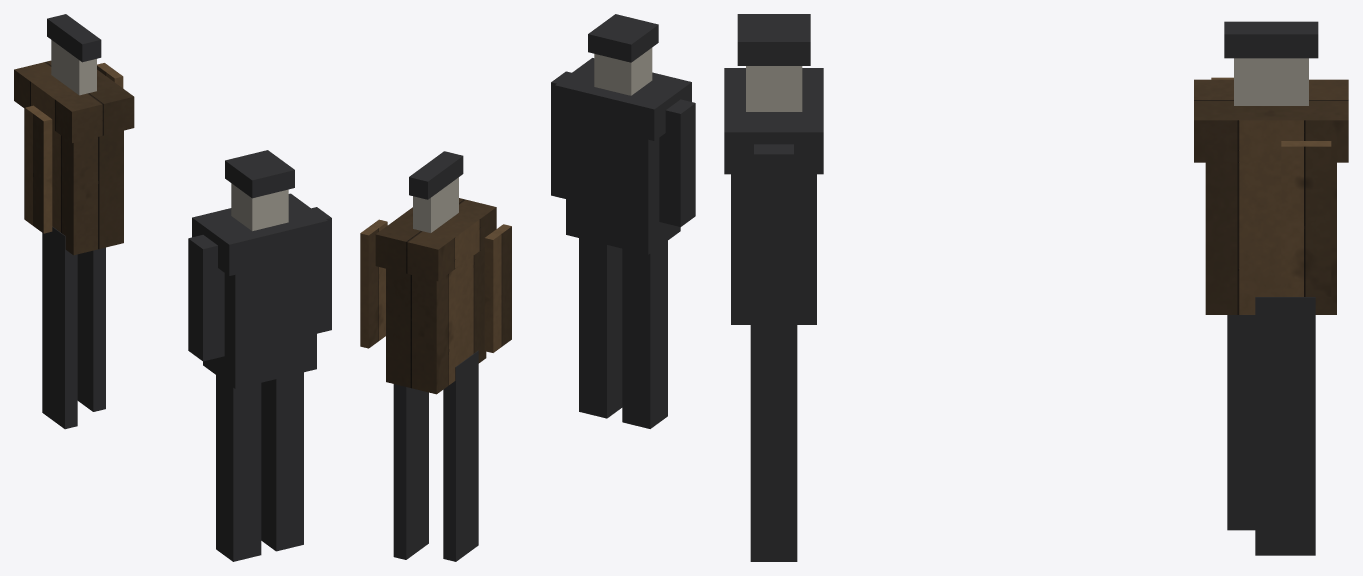
Rendered from B_men.glb.
The picture shows the model from 3 angles, left to right: view 1: azimuth 30°, elevation 25°; view 2: azimuth 150°, elevation 25°; view 3: azimuth 270°, elevation 25°; orthographic projection. The views are drawn at different scales.
Parts seen in each view (by area): view 1: B_men; view 2: B_men; view 3: B_men.
Boxes of the visible parts, x1,y1,x2,y2 form: B_men: (14, 14, 331, 561); B_men: (360, 14, 695, 561); B_men: (724, 14, 1348, 561).
Size of the model in its own units: 0.6 by 1.7 by 1.88.
Materials: 3 (1 with a texture image).
